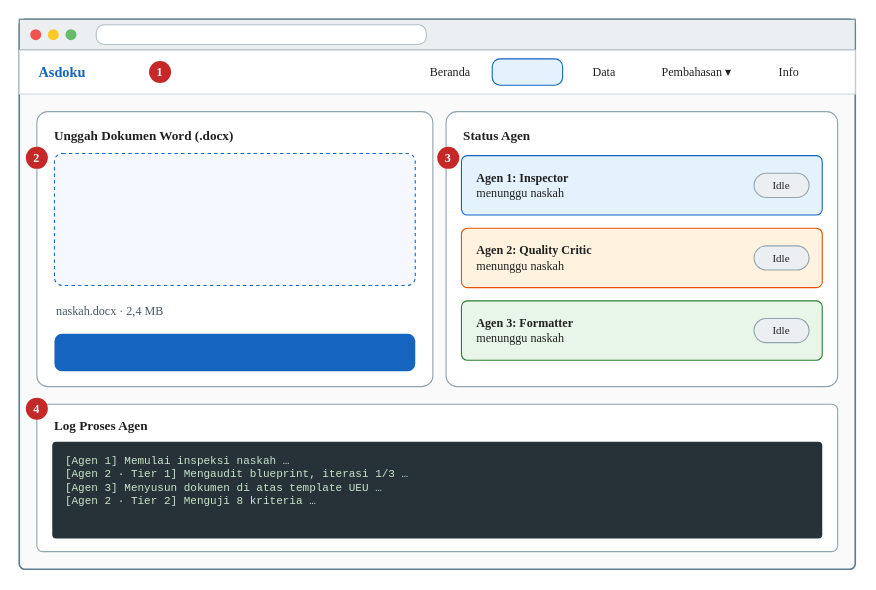
Image size: 876x590. Some labels were removed from this diagram. The shapes that lost their labels are listed below. From the top down, each one's centre as x and y in pixels, then its label:
(x=260, y=34): localhost:8000/alat
(x=527, y=71): Alat
(x=234, y=218): ⇪ Seret berkas .docx ke sini atau klik untuk memilih berkas
(x=234, y=352): Proses Cepat
